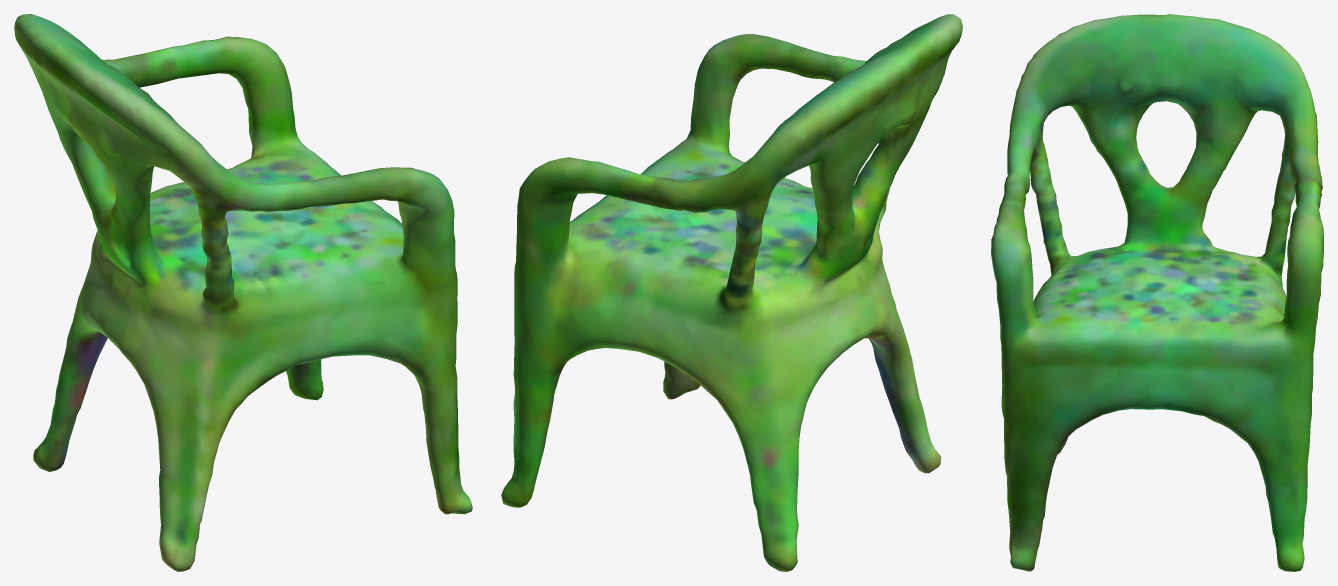
Rendered from model_v2_chair.glb.
3 renders of one model, left to right at view 1: azimuth 30°, elevation 25°; view 2: azimuth 150°, elevation 25°; view 3: azimuth 270°, elevation 25°, orthographic. The views are drawn at different scales.
Parts seen in each view (by area): view 1: Mesh1; view 2: Mesh1; view 3: Mesh1.
Boxes of the visible parts, left/top/right/bottom form: Mesh1: left=14, top=14, right=472, bottom=571; Mesh1: left=501, top=14, right=962, bottom=571; Mesh1: left=991, top=14, right=1323, bottom=571.
Size of the model in its own units: 0.8836 by 1.2 by 0.8563.
1 material, 1 textured.
